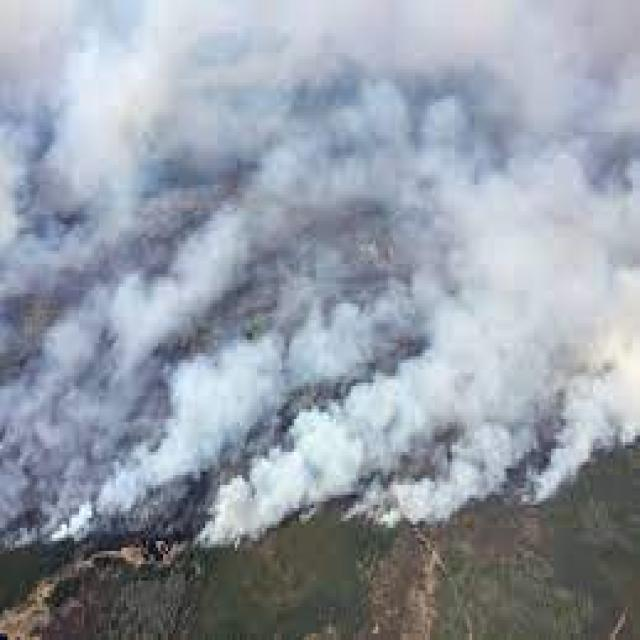Smoke: (0, 0, 639, 551), (195, 0, 640, 549), (0, 244, 640, 544), (338, 0, 640, 524), (526, 0, 639, 511)
